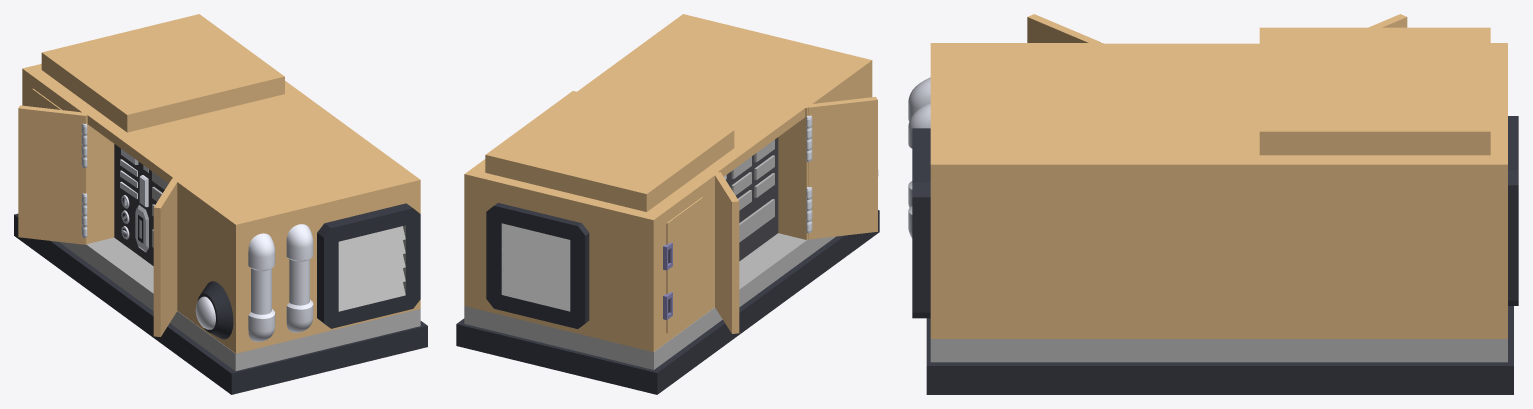
File: Generator.fbx
3 views of the same model, side by side, from view 1: azimuth 30°, elevation 25°; view 2: azimuth 150°, elevation 25°; view 3: azimuth 270°, elevation 25° (orthographic). The views are drawn at different scales.
Visible parts, largest first — view 1: block (×10), detail_ventSquare, detail_pipesSmall, detail_ventRound, detail_panelsC, detail_panelSmall, sphere_half; view 2: block (×12), detail_ventSquare; view 3: block (×7), detail_ventSquare (×2), detail_pipesSmall.
Boxes of the visible parts, <box> form: block (×10): <box>14,14,427,394</box>; detail_ventSquare: <box>317,203,420,328</box>; detail_pipesSmall: <box>248,224,313,341</box>; detail_ventRound: <box>197,281,233,339</box>; detail_panelsC: <box>120,159,148,207</box>; detail_panelSmall: <box>135,205,148,252</box>; sphere_half: <box>195,296,215,329</box>; block (×12): <box>456,14,879,394</box>; detail_ventSquare: <box>486,203,589,328</box>; block (×7): <box>926,14,1513,394</box>; detail_ventSquare (×2): <box>912,116,1518,318</box>; detail_pipesSmall: <box>908,77,930,238</box>.
Bounding box in the file's own units: 12.66 × 9.56 × 21.14.
